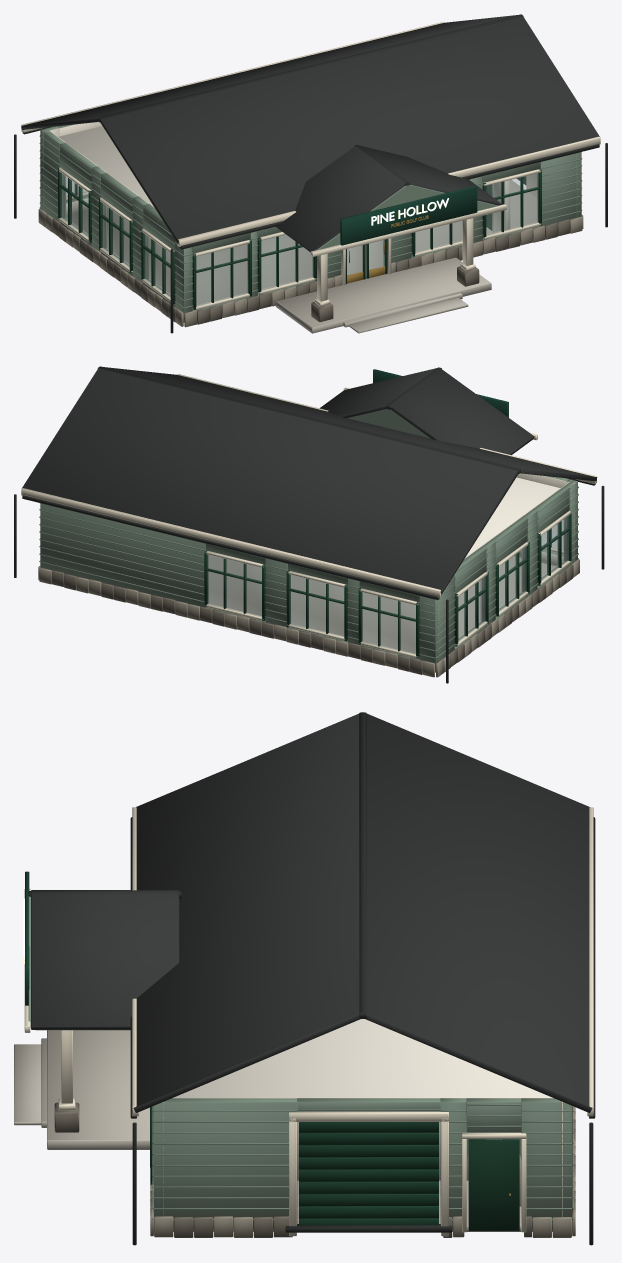
Rendered from modern_public_clubhouse_v1.glb.
The picture shows the model from 3 angles, top to bottom: view 1: azimuth 30°, elevation 25°; view 2: azimuth 150°, elevation 25°; view 3: azimuth 270°, elevation 25°; orthographic projection. The views are drawn at different scales.
Visible parts, largest first — view 1: MESH_Roof_Front_Plane, MESH_Interior_FloorSlab, MESH_Porch_RoofWest, MESH_Porch_ConcreteSlab, MESH_Roof_Back_Plane, MESH_Sign_Backboard, MESH_FrontSolid_End_Structural, MESH_FrontStorefront_00_Glass, MESH_Porch_RoofEast, MESH_Interior_Ceiling, MESH_FrontStorefront_03_Glass, MESH_Roof_Front_Fascia (+26 smaller); view 2: MESH_Roof_Back_Plane, MESH_BackSolid_End_Structural, MESH_Interior_FloorSlab, MESH_Porch_RoofWest, MESH_Roof_Front_Plane, MESH_Roof_Back_Fascia, MESH_BackSolid_End_LapCladding, MESH_RearPatioWindow_02_Glass, MESH_RearPatioWindow_00_Glass, MESH_RearPatioWindow_01_Glass, MESH_Porch_RoofEast, MESH_Interior_Ceiling (+20 smaller); view 3: MESH_Roof_Back_Plane, MESH_Roof_Front_Plane, MESH_Porch_RoofEast, MESH_Interior_Ceiling, MESH_EastSolid_00_Structural, MESH_Porch_ConcreteSlab, MESH_RearServiceDoor_Leaf, MESH_EastSolid_End_Structural, MESH_EastSolid_00_LapCladding, MESH_Roof_RidgeCap, MESH_Porch_Step_0, MESH_EastAbove_00_Structural (+22 smaller).
Part boxes in pixels (left/top/right/bottom): MESH_Roof_Front_Plane: left=101, top=16, right=599, bottom=243; MESH_Interior_FloorSlab: left=66, top=180, right=537, bottom=304; MESH_Porch_RoofWest: left=275, top=146, right=406, bottom=252; MESH_Porch_ConcreteSlab: left=275, top=257, right=491, bottom=333; MESH_Roof_Back_Plane: left=21, top=15, right=517, bottom=129; MESH_Sign_Backboard: left=340, top=186, right=477, bottom=245; MESH_FrontSolid_End_Structural: left=537, top=152, right=581, bottom=226; MESH_FrontStorefront_00_Glass: left=196, top=244, right=248, bottom=305; MESH_Porch_RoofEast: left=358, top=145, right=502, bottom=205; MESH_Interior_Ceiling: left=58, top=126, right=153, bottom=206; MESH_FrontStorefront_03_Glass: left=486, top=173, right=538, bottom=234; MESH_Roof_Front_Fascia: left=177, top=136, right=600, bottom=246; MESH_Roof_Back_Plane: left=22, top=368, right=517, bottom=594; MESH_BackSolid_End_Structural: left=40, top=503, right=208, bottom=607; MESH_Interior_FloorSlab: left=209, top=555, right=555, bottom=653; MESH_Porch_RoofWest: left=390, top=368, right=534, bottom=454; MESH_Roof_Front_Plane: left=104, top=367, right=597, bottom=481; MESH_Roof_Back_Fascia: left=21, top=488, right=441, bottom=597; MESH_BackSolid_End_LapCladding: left=39, top=503, right=205, bottom=602; MESH_RearPatioWindow_02_Glass: left=207, top=555, right=261, bottom=616; MESH_RearPatioWindow_00_Glass: left=362, top=592, right=415, bottom=654; MESH_RearPatioWindow_01_Glass: left=290, top=575, right=343, bottom=636; MESH_Porch_RoofEast: left=320, top=367, right=438, bottom=418; MESH_Interior_Ceiling: left=465, top=477, right=560, bottom=557; MESH_Roof_Back_Plane: left=365, top=713, right=592, bottom=1112; MESH_Roof_Front_Plane: left=133, top=713, right=360, bottom=1112; MESH_Porch_RoofEast: left=31, top=892, right=179, bottom=1029; MESH_Interior_Ceiling: left=173, top=1019, right=552, bottom=1097; MESH_EastSolid_00_Structural: left=154, top=1098, right=297, bottom=1229; MESH_Porch_ConcreteSlab: left=47, top=1030, right=149, bottom=1149; MESH_RearServiceDoor_Leaf: left=468, top=1139, right=519, bottom=1230; MESH_EastSolid_End_Structural: left=521, top=1098, right=571, bottom=1229; MESH_EastSolid_00_LapCladding: left=154, top=1110, right=297, bottom=1220; MESH_Roof_RidgeCap: left=359, top=712, right=366, bottom=1018; MESH_Porch_Step_0: left=14, top=1044, right=41, bottom=1125; MESH_EastAbove_00_Structural: left=297, top=1098, right=440, bottom=1111.
Bounding box in the file's own units: 18.83 × 6.54 × 14.91.
